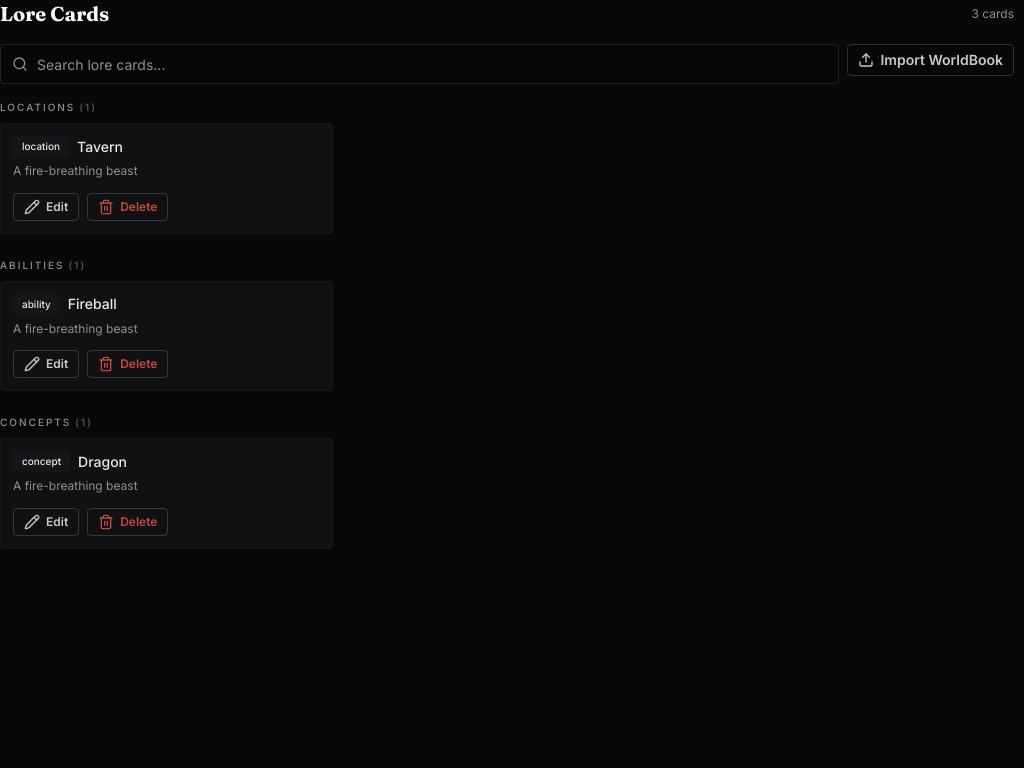
Test: LoreSection › surfaces delete failures under the targeted card
The image size is (1024, 768).
Click the button with aria-label "delete dragon": {"x": 128, "y": 522} [87,508,168,536]
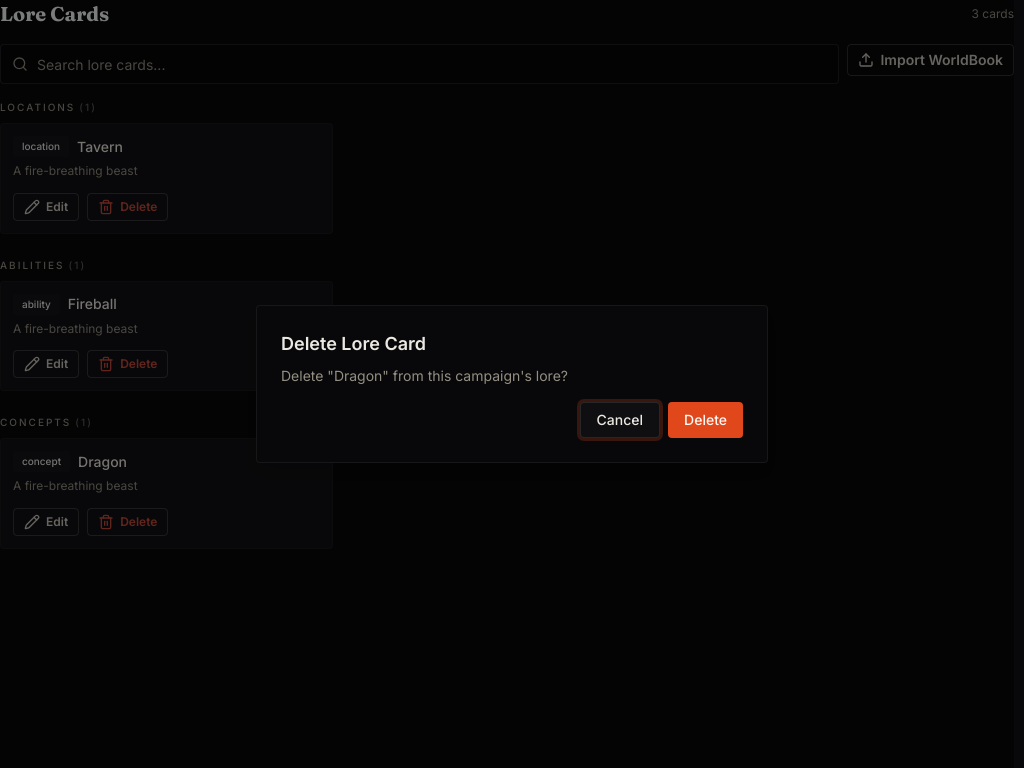
Click the button "Delete": {"x": 706, "y": 420} [668,402,743,438]
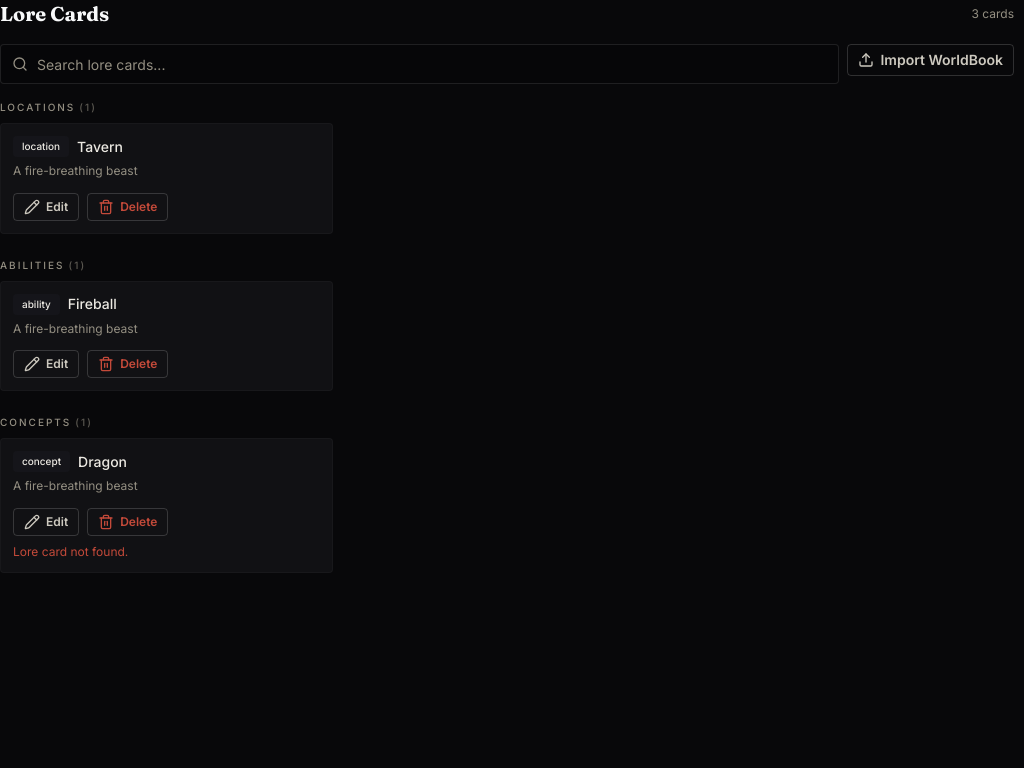
Check: the button with aria-label "delete dragon" is enabled, box [87,508,168,536]
Check: the text "Lore card not found." is shown, box [13,544,128,558]
